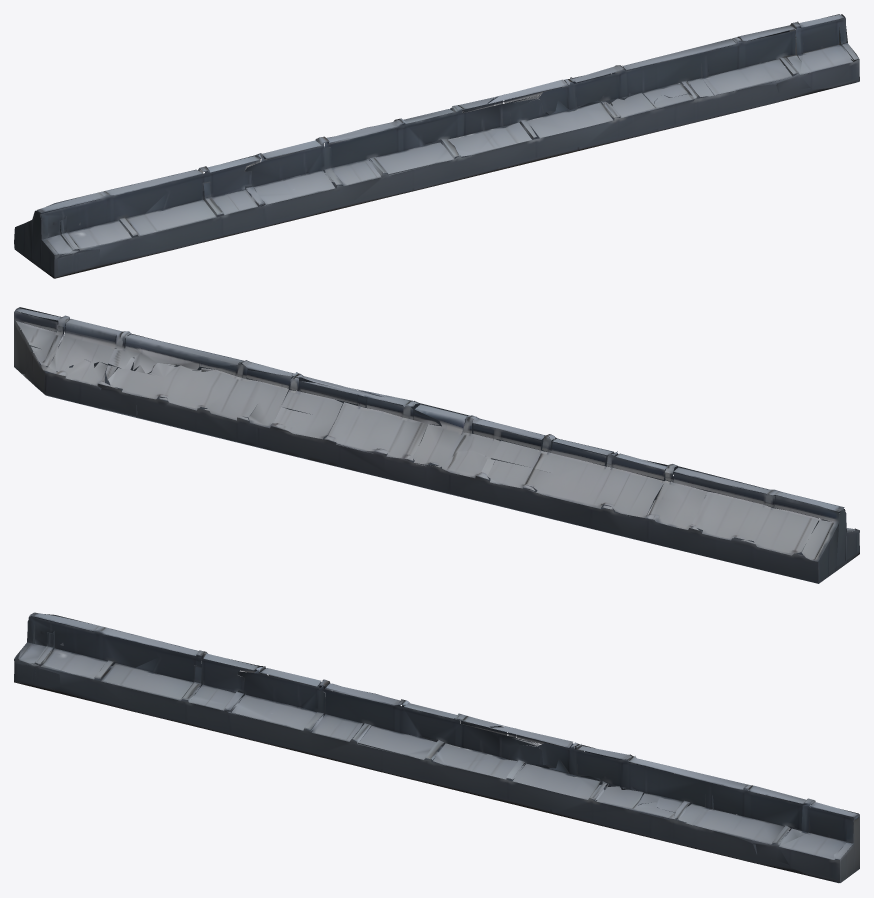
File: roof_edge.glb
3 views of the same model, one above another, from view 1: azimuth 30°, elevation 25°; view 2: azimuth 150°, elevation 25°; view 3: azimuth 330°, elevation 25° (orthographic). The views are drawn at different scales.
Visible parts, largest first — view 1: Industrial_roof_edge; view 2: Industrial_roof_edge; view 3: Industrial_roof_edge.
Part boxes in pixels (x1,y1,x2,y2): Industrial_roof_edge: [14, 14, 859, 278]; Industrial_roof_edge: [14, 307, 859, 583]; Industrial_roof_edge: [14, 612, 859, 883].
Bounding box in the file's own units: 4 × 0.2801 × 0.3556.
1 material, 1 textured.
